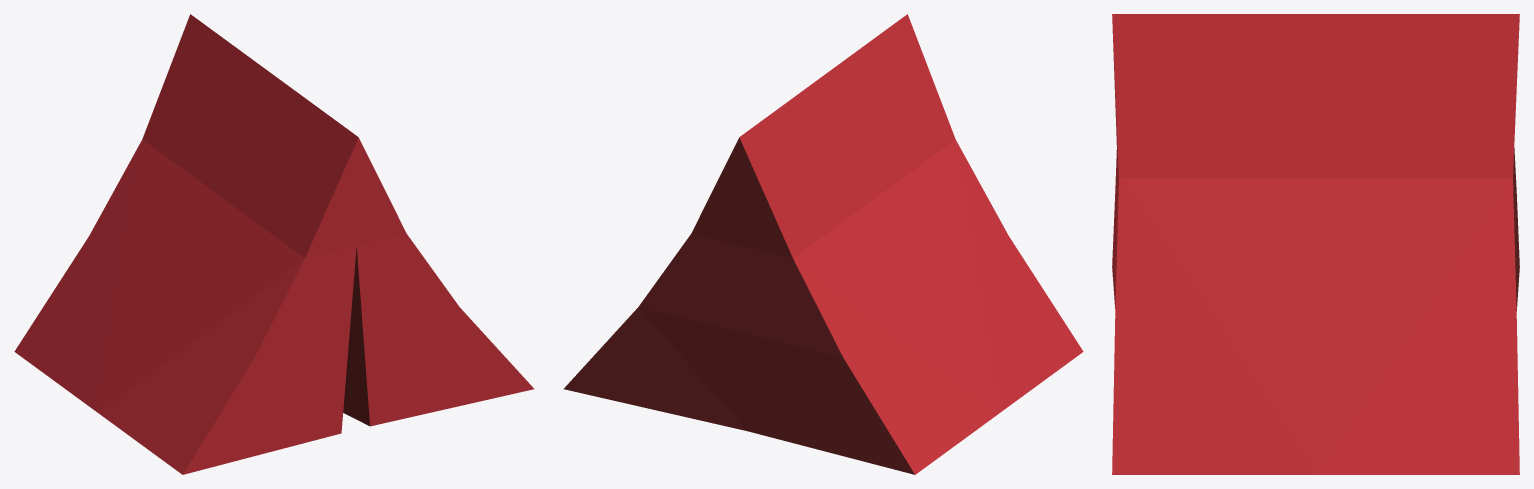
File: tent_red.glb
3 views of the same model, side by side, from view 1: azimuth 30°, elevation 25°; view 2: azimuth 150°, elevation 25°; view 3: azimuth 270°, elevation 25° (orthographic). The views are drawn at different scales.
Visible parts, largest first — view 1: tent_red; view 2: tent_red; view 3: tent_red.
Boxes of the visible parts, x1,y1,x2,y2 form: tent_red: (14,14,534,474); tent_red: (563,14,1083,474); tent_red: (1112,14,1519,474).
Bounding box in the file's own units: 2.81 × 2.25 × 2.33.
1 material, 1 textured.
